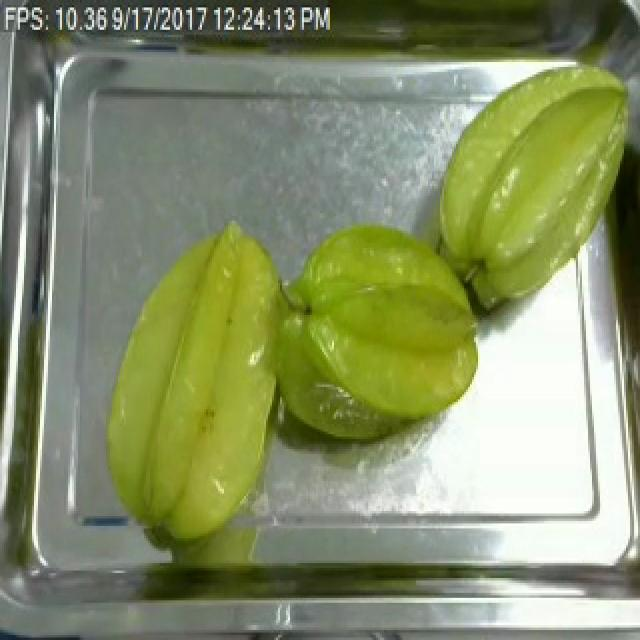fruit: (92, 211, 290, 558), (424, 52, 640, 313), (274, 211, 490, 449)
